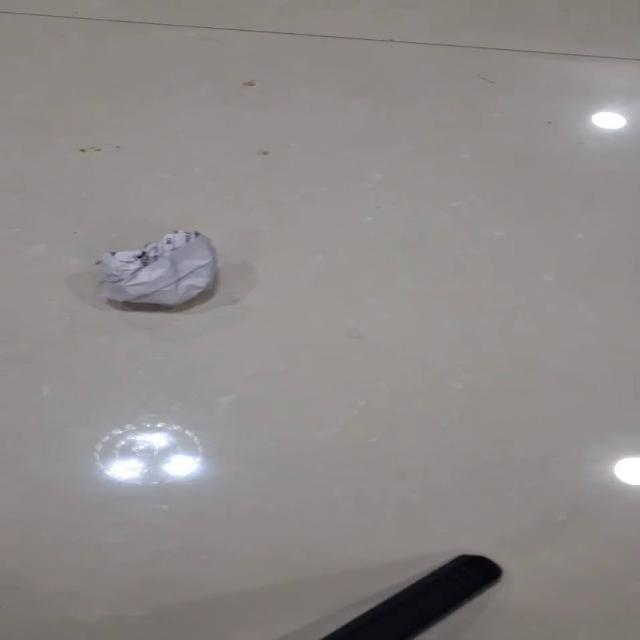paper: (95, 229, 217, 307)
